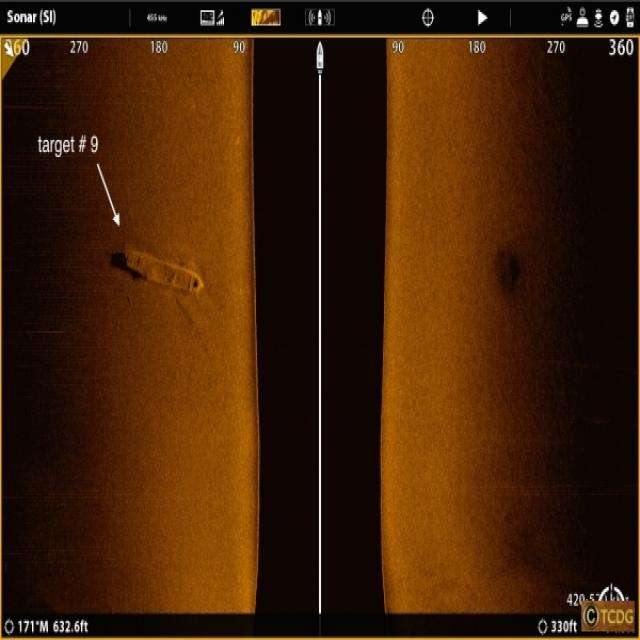ship: (118, 241, 204, 300)
